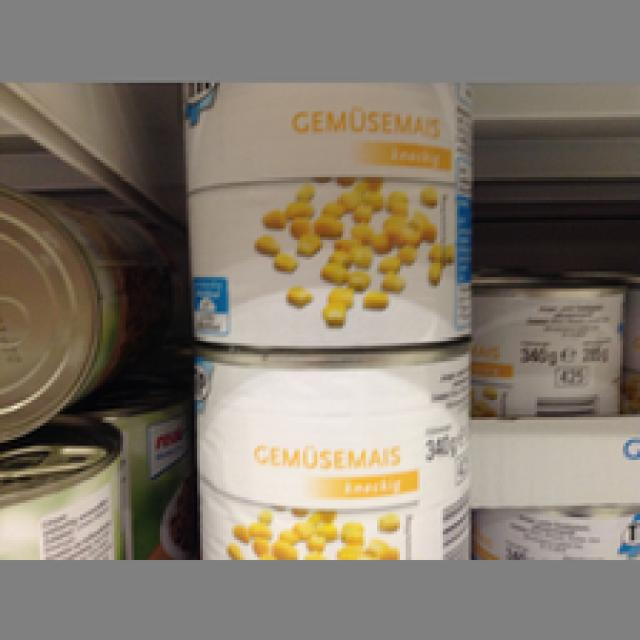groceries: (180, 80, 469, 343), (188, 340, 472, 557), (469, 277, 620, 414)
